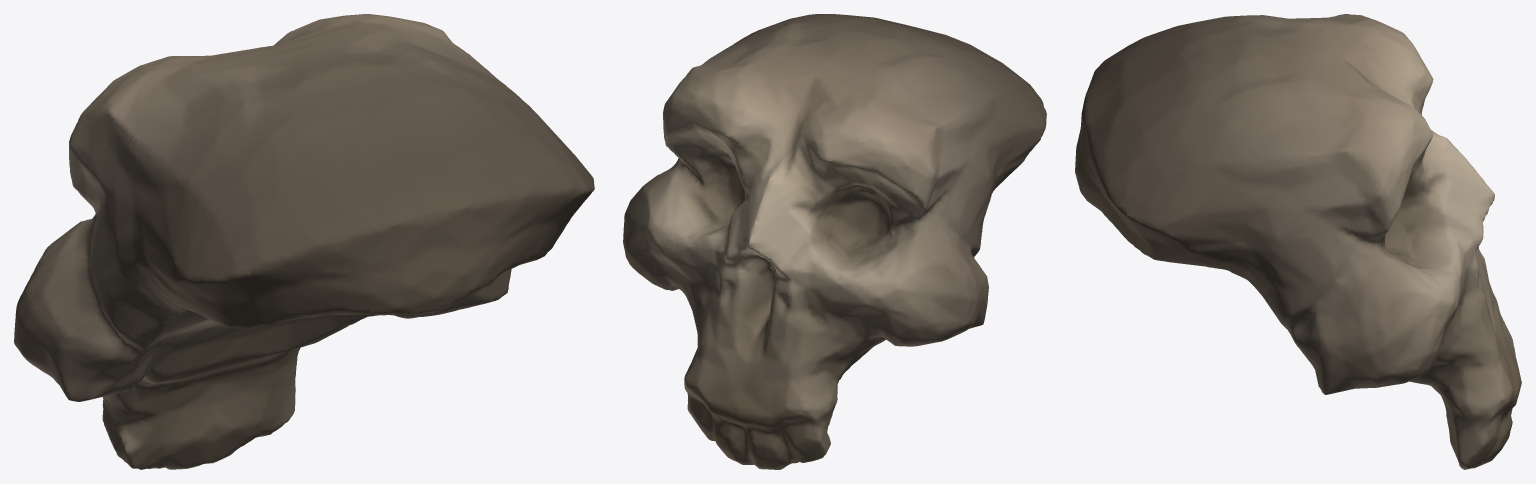
The model's file is SM_PlanetDead.fbx.
The picture shows the model from 3 angles, left to right: view 1: azimuth 30°, elevation 25°; view 2: azimuth 150°, elevation 25°; view 3: azimuth 270°, elevation 25°; orthographic projection. The views are drawn at different scales.
Visible parts, largest first — view 1: PlanetDead_0; view 2: PlanetDead_0; view 3: PlanetDead_0.
Boxes of the visible parts, box(x1,y1,x2,y2) form: PlanetDead_0: box(14, 14, 594, 469); PlanetDead_0: box(623, 14, 1046, 469); PlanetDead_0: box(1075, 14, 1521, 469).
Bounding box in the file's own units: 2.1 × 2.1 × 2.04.
